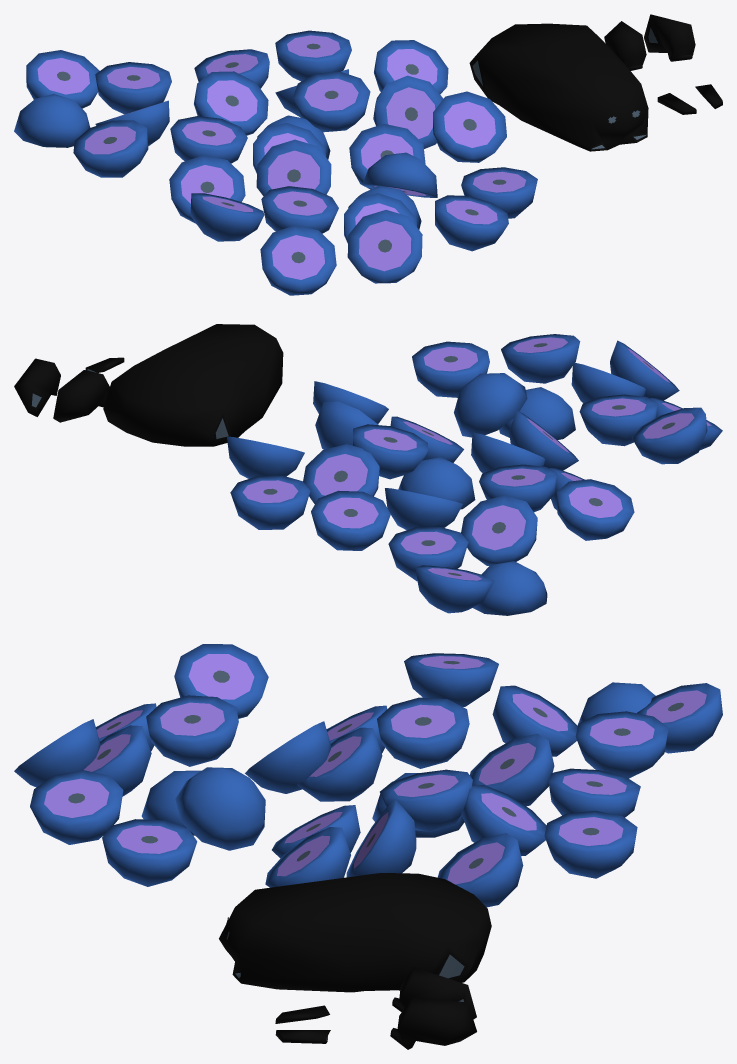
File: ingredient_SnoozeBerry_Chopped.fbx
3 renders of one model, top to bottom at view 1: azimuth 30°, elevation 25°; view 2: azimuth 150°, elevation 25°; view 3: azimuth 270°, elevation 25°, orthographic. The views are drawn at different scales.
Parts seen in each view (by area): view 1: SnoozeBerry_Chopped; view 2: SnoozeBerry_Chopped; view 3: SnoozeBerry_Chopped.
Part boxes in pixels (x1,y1,x2,y2): SnoozeBerry_Chopped: [14, 14, 722, 295]; SnoozeBerry_Chopped: [14, 324, 722, 615]; SnoozeBerry_Chopped: [14, 644, 722, 1049].
Size of the model in its own units: 887 by 115 by 748.
